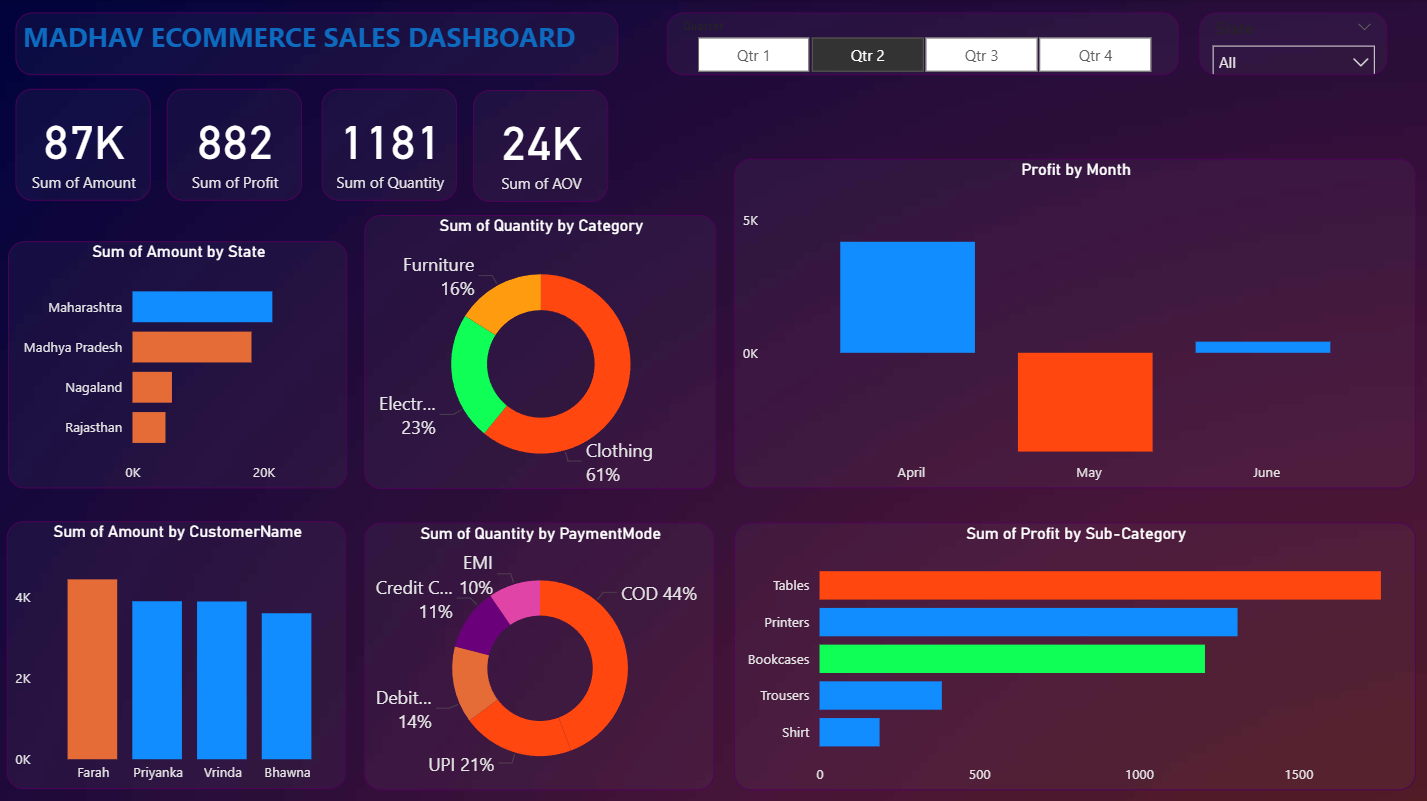

The dashboard page shown, as its layout file describes it:
{"tool":"powerbi","page":{"name":"Page 1","canvas":[1280,720],"ordinal":0},"visuals":[{"type":"textbox","box":[15.5,11.3,538,56.3],"z":0},{"type":"columnChart","title":"Profit by Month","fields":{"Y":["Details.Profit"],"Category":["Orders.Order Date.Variation.Date Hierarchy.Month"]},"box":[657.7,142.3,608.5,294.4],"z":1000},{"type":"barChart","fields":{"Category":["Details.Sub-Category"],"Y":["Details.Profit"]},"box":[657.7,466.2,608.5,239.4],"z":2000},{"type":"donutChart","fields":{"Category":["Details.Category"],"Y":["Details.Quantity"]},"box":[326.8,191.5,314.1,245.1],"z":3000},{"type":"donutChart","fields":{"Y":["Details.Quantity"],"Category":["Details.PaymentMode"]},"box":[326.8,466.2,312.7,239.4],"z":4000},{"type":"card","fields":{"Values":["Details.Amount"]},"box":[15.5,78.9,121.1,100],"z":5000},{"type":"card","fields":{"Values":["Details.Profit"]},"box":[150.7,78.9,121.1,100],"z":6000},{"type":"card","fields":{"Values":["Details.Quantity"]},"box":[288.7,78.9,121.1,100],"z":7000},{"type":"card","fields":{"Values":["Details.AOV"]},"box":[423.9,80.3,121.1,100],"z":8000},{"type":"barChart","fields":{"Category":["Orders.State"],"Y":["Details.Amount"]},"box":[8.5,215.5,302.8,221.1],"z":9000},{"type":"columnChart","fields":{"Category":["Orders.CustomerName"],"Y":["Details.Amount"]},"box":[8,466,303,239],"z":10000},{"type":"slicer","fields":{"Values":["Orders.Order Date.Variation.Date Hierarchy.Quarter"]},"box":[597.2,11.3,457.7,56.3],"z":11000},{"type":"slicer","fields":{"Values":["Orders.State"]},"box":[1073.2,11.3,167.6,56.3],"z":12000}]}

Visuals, with their boxes in screenshot pixels (x1, y1, x2, y2), scaled from the page's 1280x720 canvas onto the 1427x801 screenshot:
textbox: {"x1": 17, "y1": 13, "x2": 617, "y2": 75}
"Profit by Month" columnChart: {"x1": 733, "y1": 158, "x2": 1412, "y2": 486}
barChart - Details.Sub-Category x Details.Profit: {"x1": 733, "y1": 519, "x2": 1412, "y2": 785}
donutChart - Details.Category x Details.Quantity: {"x1": 364, "y1": 213, "x2": 715, "y2": 486}
donutChart - Details.Quantity x Details.PaymentMode: {"x1": 364, "y1": 519, "x2": 713, "y2": 785}
card - Details.Amount: {"x1": 17, "y1": 88, "x2": 152, "y2": 199}
card - Details.Profit: {"x1": 168, "y1": 88, "x2": 303, "y2": 199}
card - Details.Quantity: {"x1": 322, "y1": 88, "x2": 457, "y2": 199}
card - Details.AOV: {"x1": 473, "y1": 89, "x2": 608, "y2": 201}
barChart - Orders.State x Details.Amount: {"x1": 9, "y1": 240, "x2": 347, "y2": 486}
columnChart - Orders.CustomerName x Details.Amount: {"x1": 9, "y1": 518, "x2": 347, "y2": 784}
slicer - Orders.Order Date.Variation.Date Hierarchy.Quarter: {"x1": 666, "y1": 13, "x2": 1176, "y2": 75}
slicer - Orders.State: {"x1": 1196, "y1": 13, "x2": 1383, "y2": 75}
